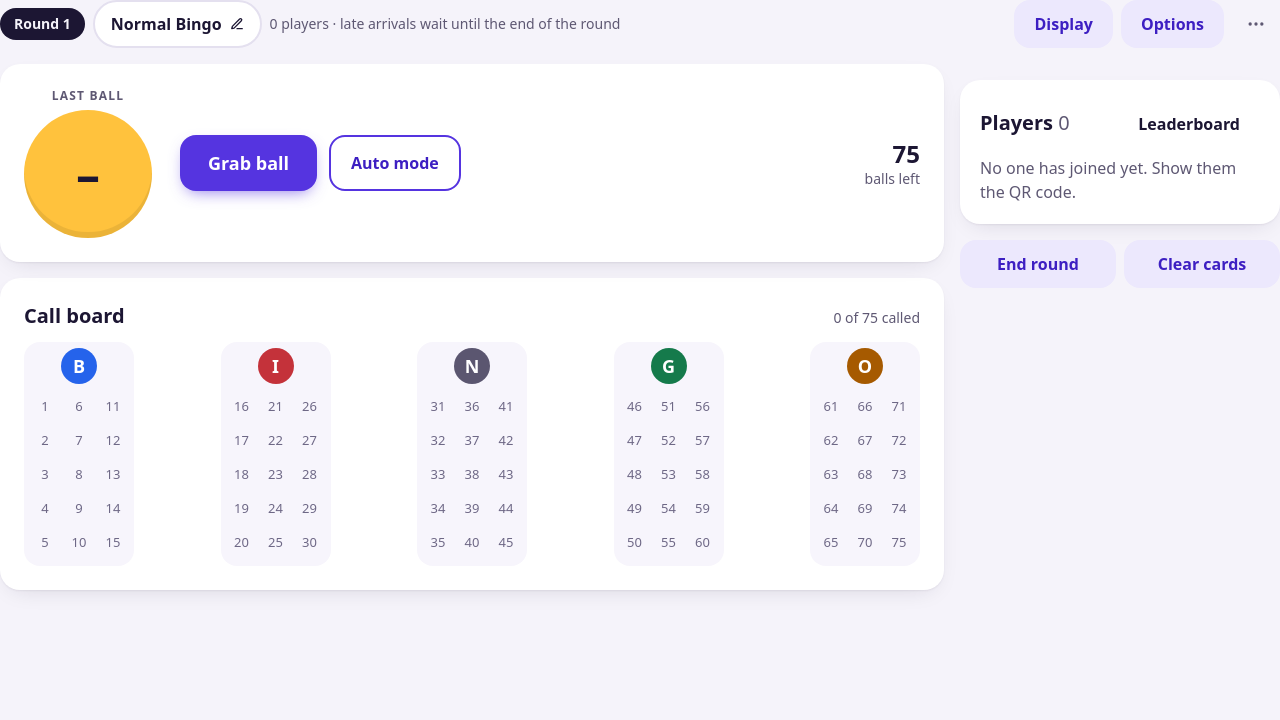
Scenario: Options (FR-32) › sends only what changed, with the pattern, in one Apply
Click the button "Options" at (1172, 24), box [1121,0,1224,48]
(page scrolled)
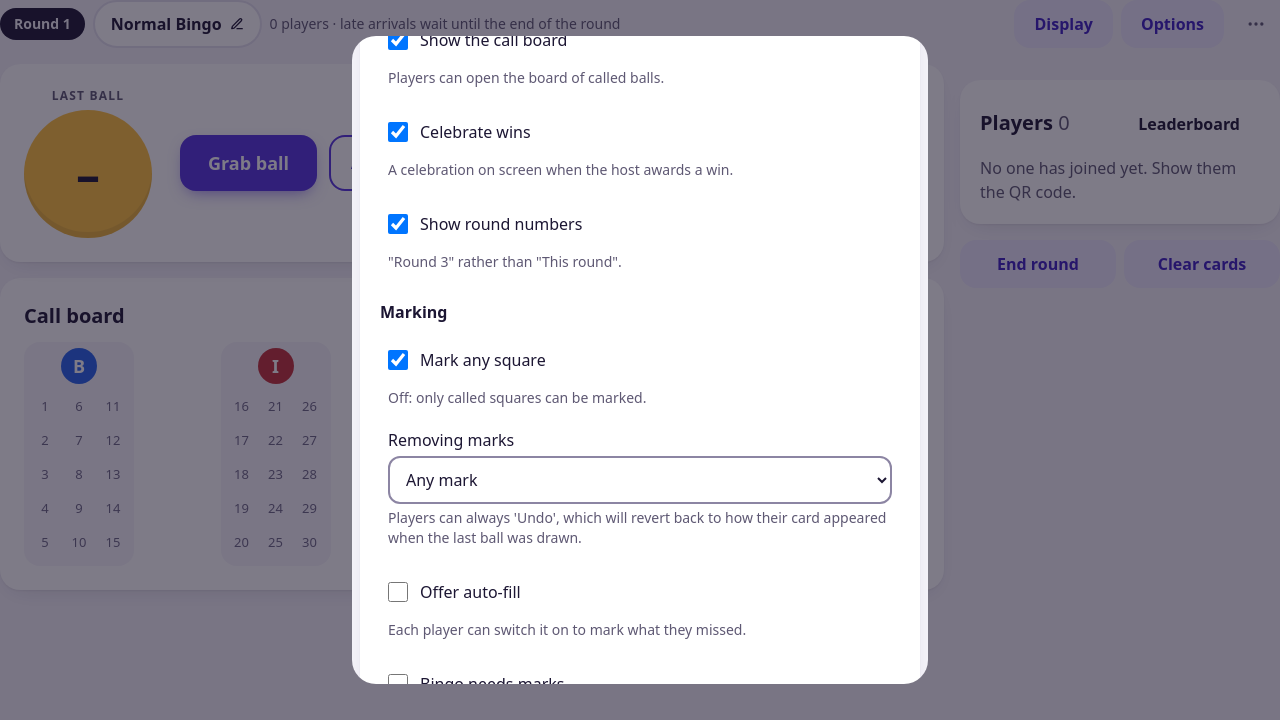
Click the checkbox labelled "Mark any square" at (398, 360), box [388,350,408,370]
(page scrolled)
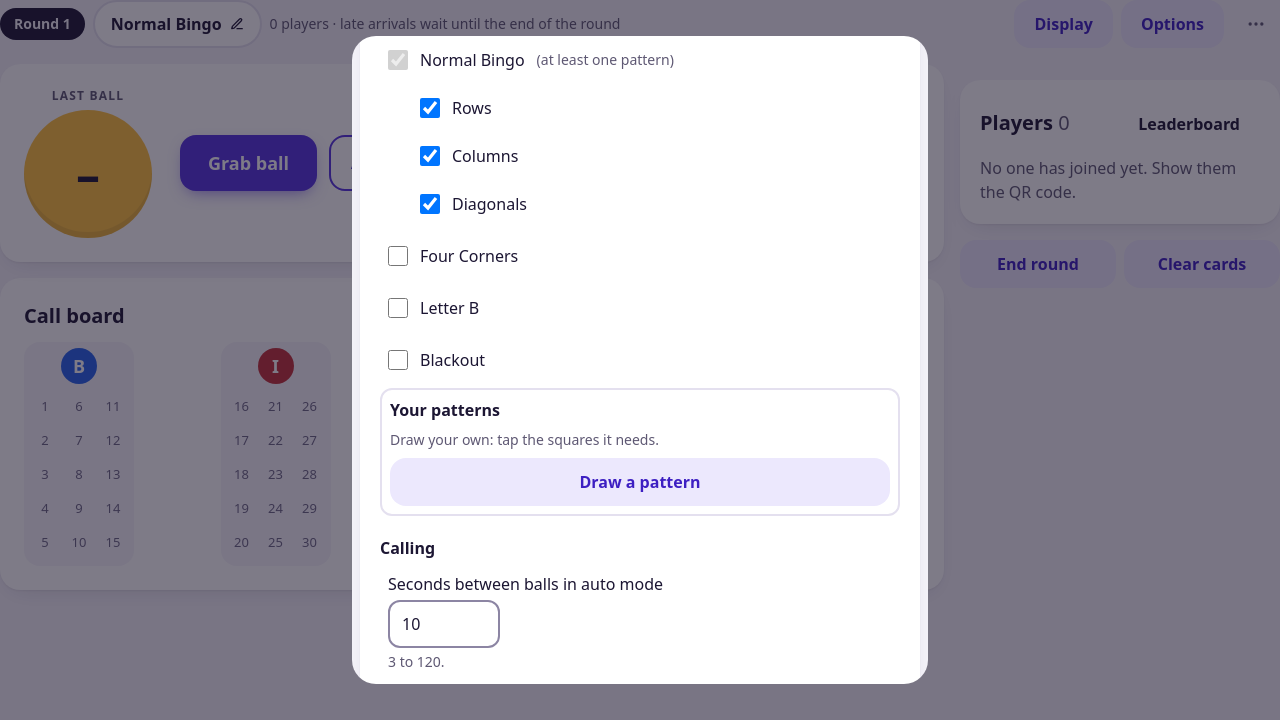
Click the checkbox labelled "Blackout" at (398, 360), box [388,350,408,370]
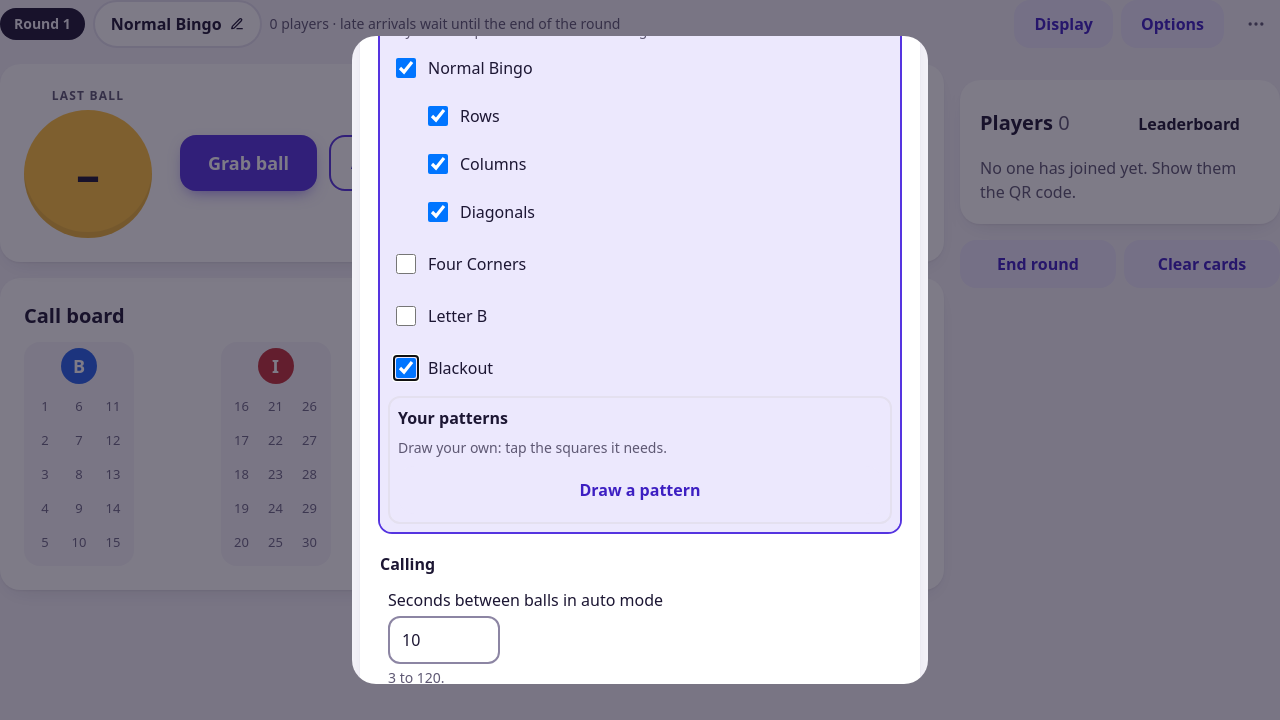
Click the checkbox labelled "Normal Bingo" at (406, 68), box [396,58,416,78]
(page scrolled)
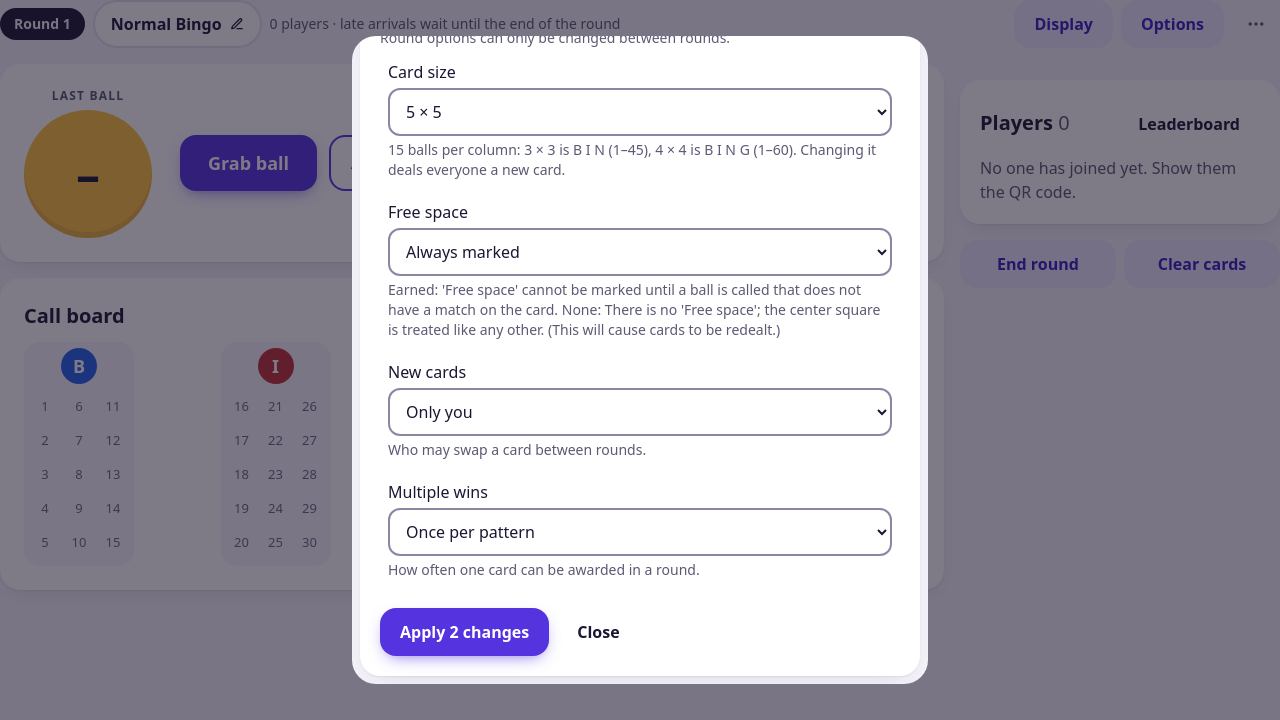
Click the button "Apply 2 changes" at (465, 632), box [380,608,549,656]
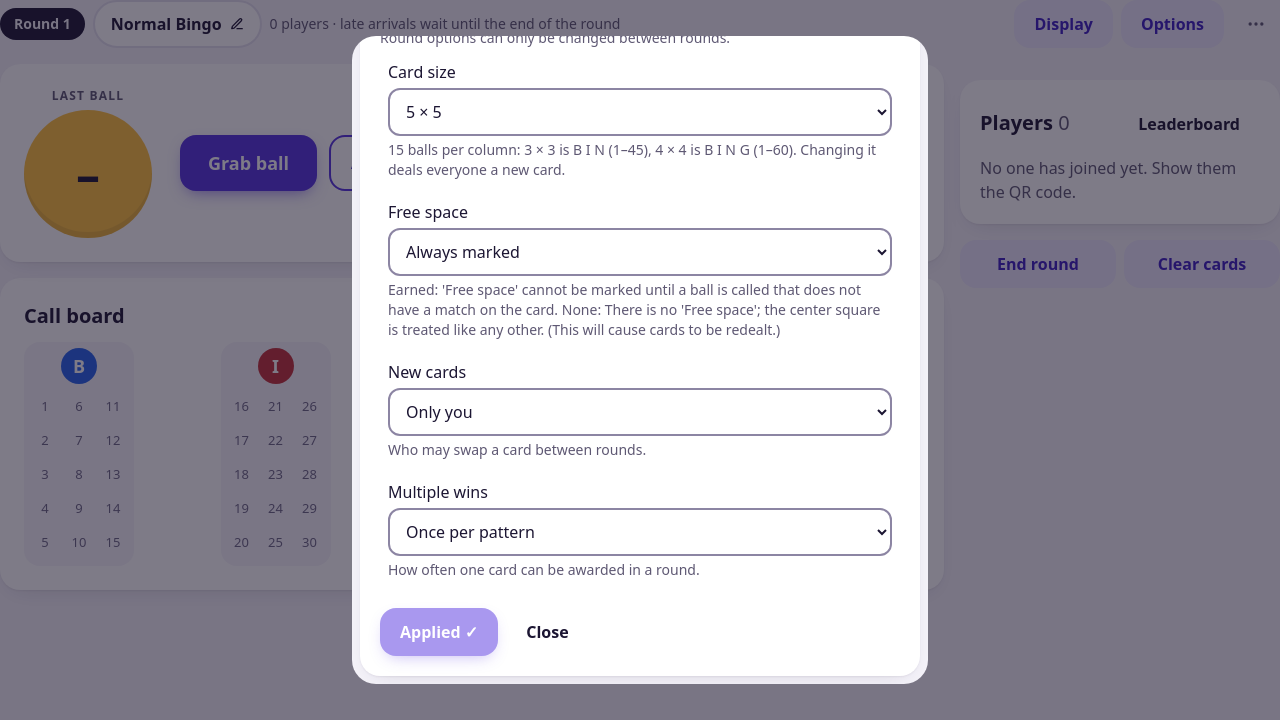
Now the button "Applied ✓" is disabled, box [380,608,498,656]
